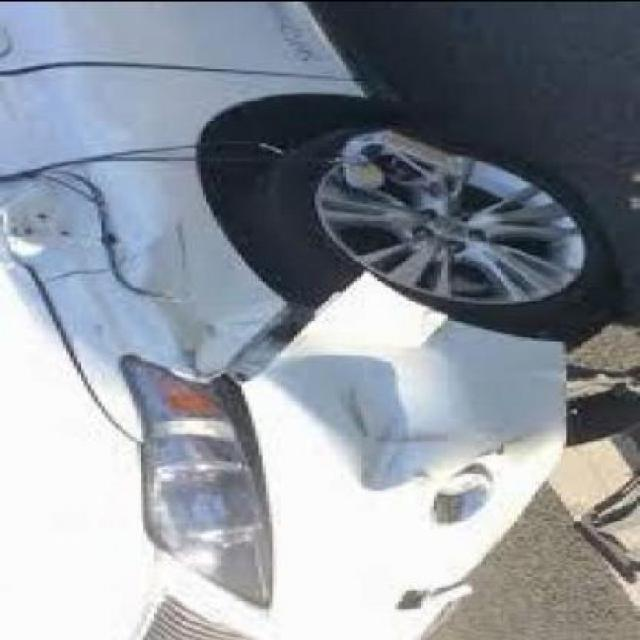damage: (3, 142, 569, 496)
